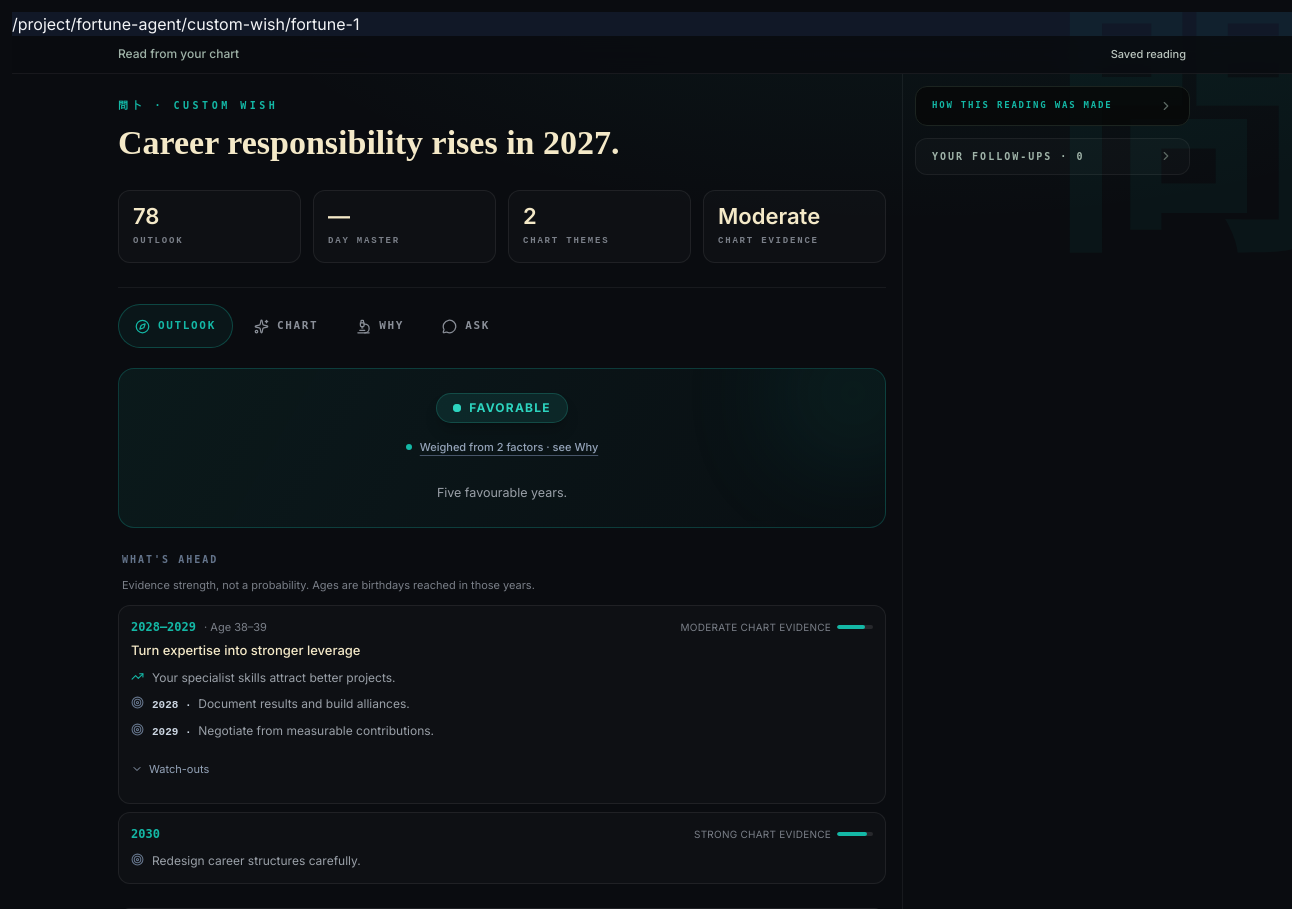
Test: FortuneResultShell terminal states › opens Chart without mutating the frozen reading anchors
Expected: the text "2028–2029" is shown, left=131, top=618, right=196, bottom=636
Click the tab "Chart": (286, 326) left=237, top=304, right=335, bottom=348
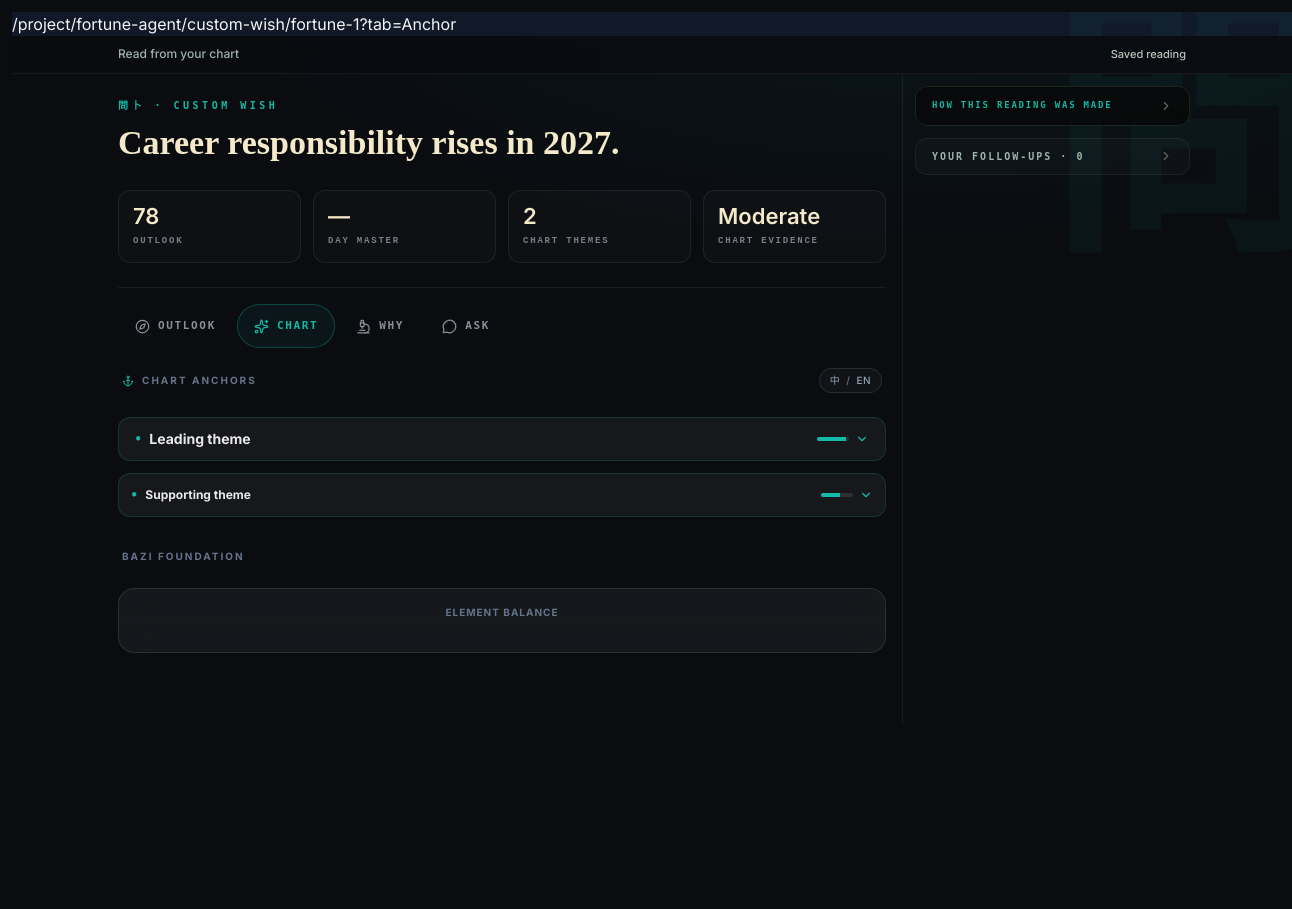
Now the heading "Chart Anchors" is shown, box left=122, top=373, right=257, bottom=388
Now the text "Leading theme" is shown, box left=149, top=429, right=251, bottom=449
Now the button "• Leading theme" is shown, box left=118, top=417, right=886, bottom=461
Click the tab "Outlook": (175, 326) left=118, top=304, right=233, bottom=348
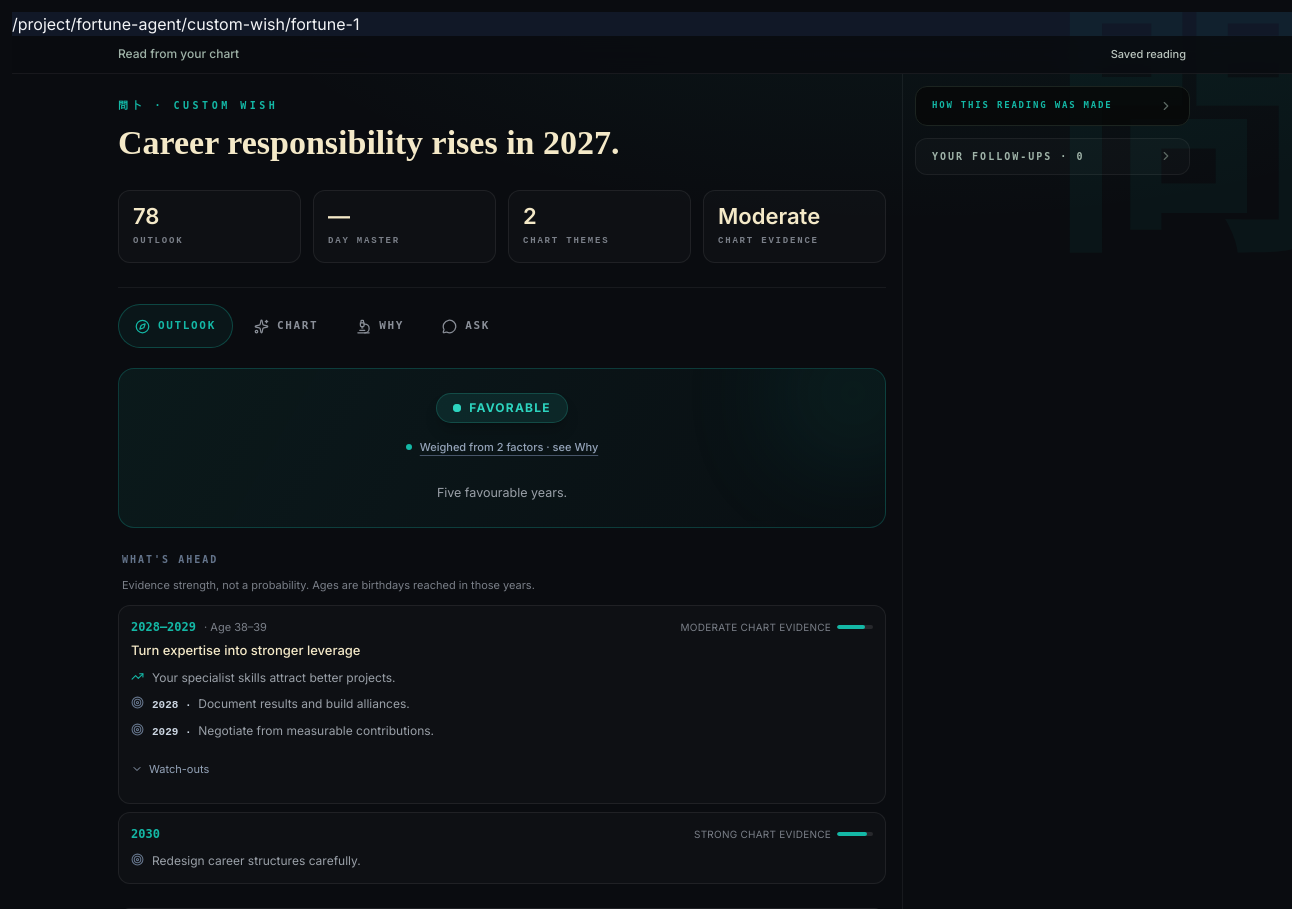
Now the text "2028–2029" is shown, box left=131, top=618, right=196, bottom=636
